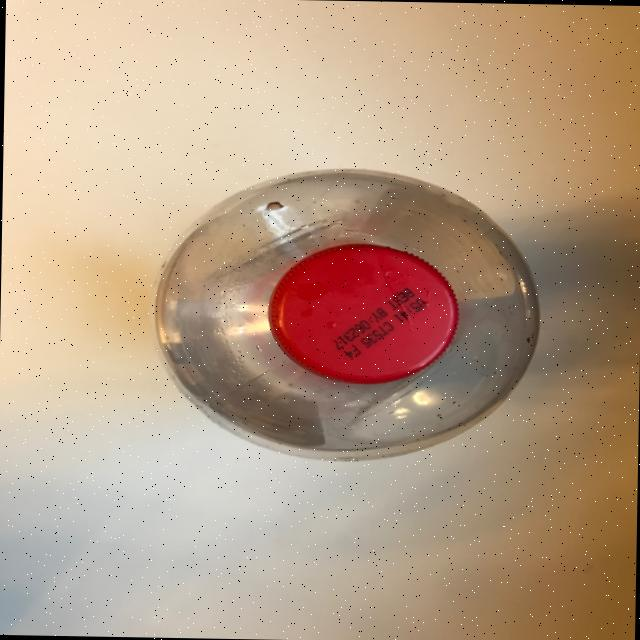plastic: (149, 163, 543, 465)
